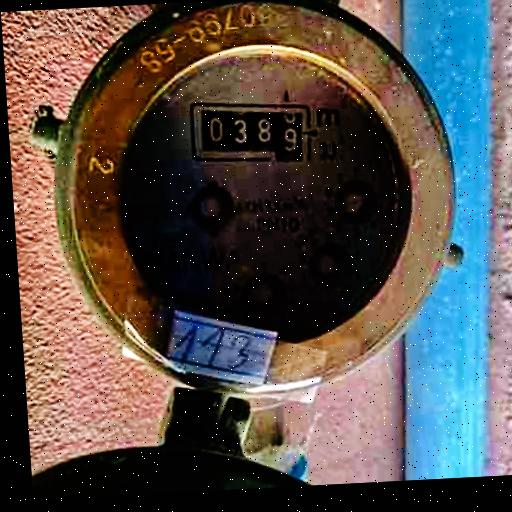0: (200, 109, 233, 154)
3: (229, 110, 256, 152)
8: (250, 111, 277, 153)
9: (272, 110, 306, 163)
border_water_meter_number: (187, 95, 314, 168)
